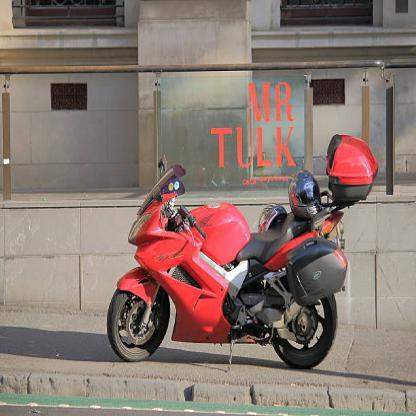Motorcycle: (102, 118, 379, 384)
